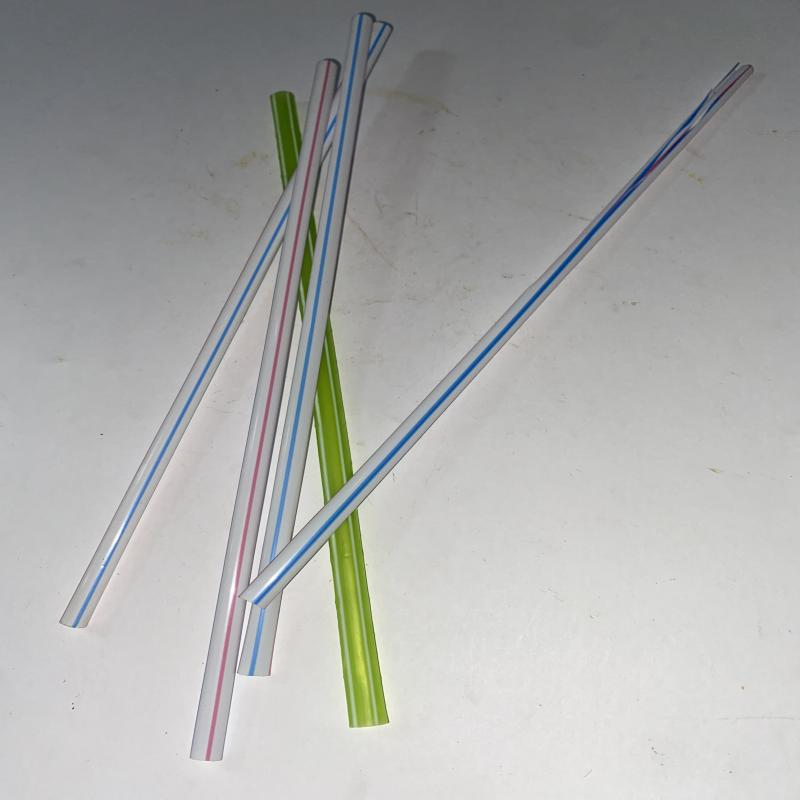plastic straw: (238, 61, 755, 610), (58, 21, 393, 627), (190, 62, 341, 756), (238, 15, 376, 675), (272, 90, 392, 727)
